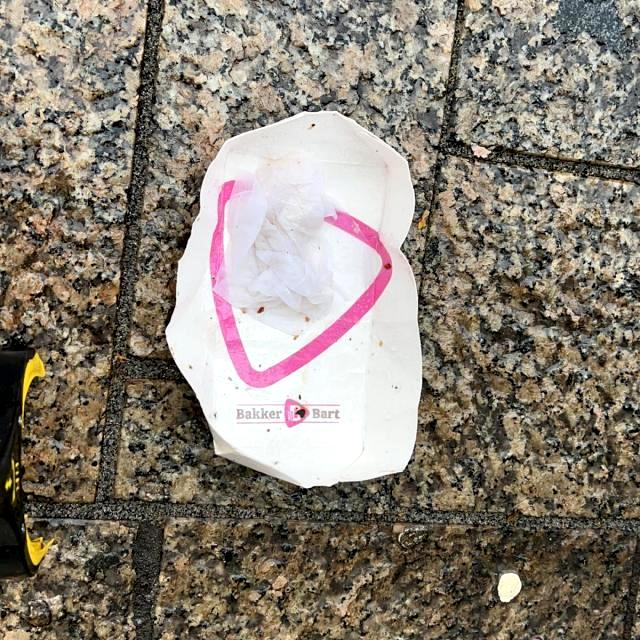Paper: (157, 104, 427, 492)
Plastic: (204, 146, 346, 334)
